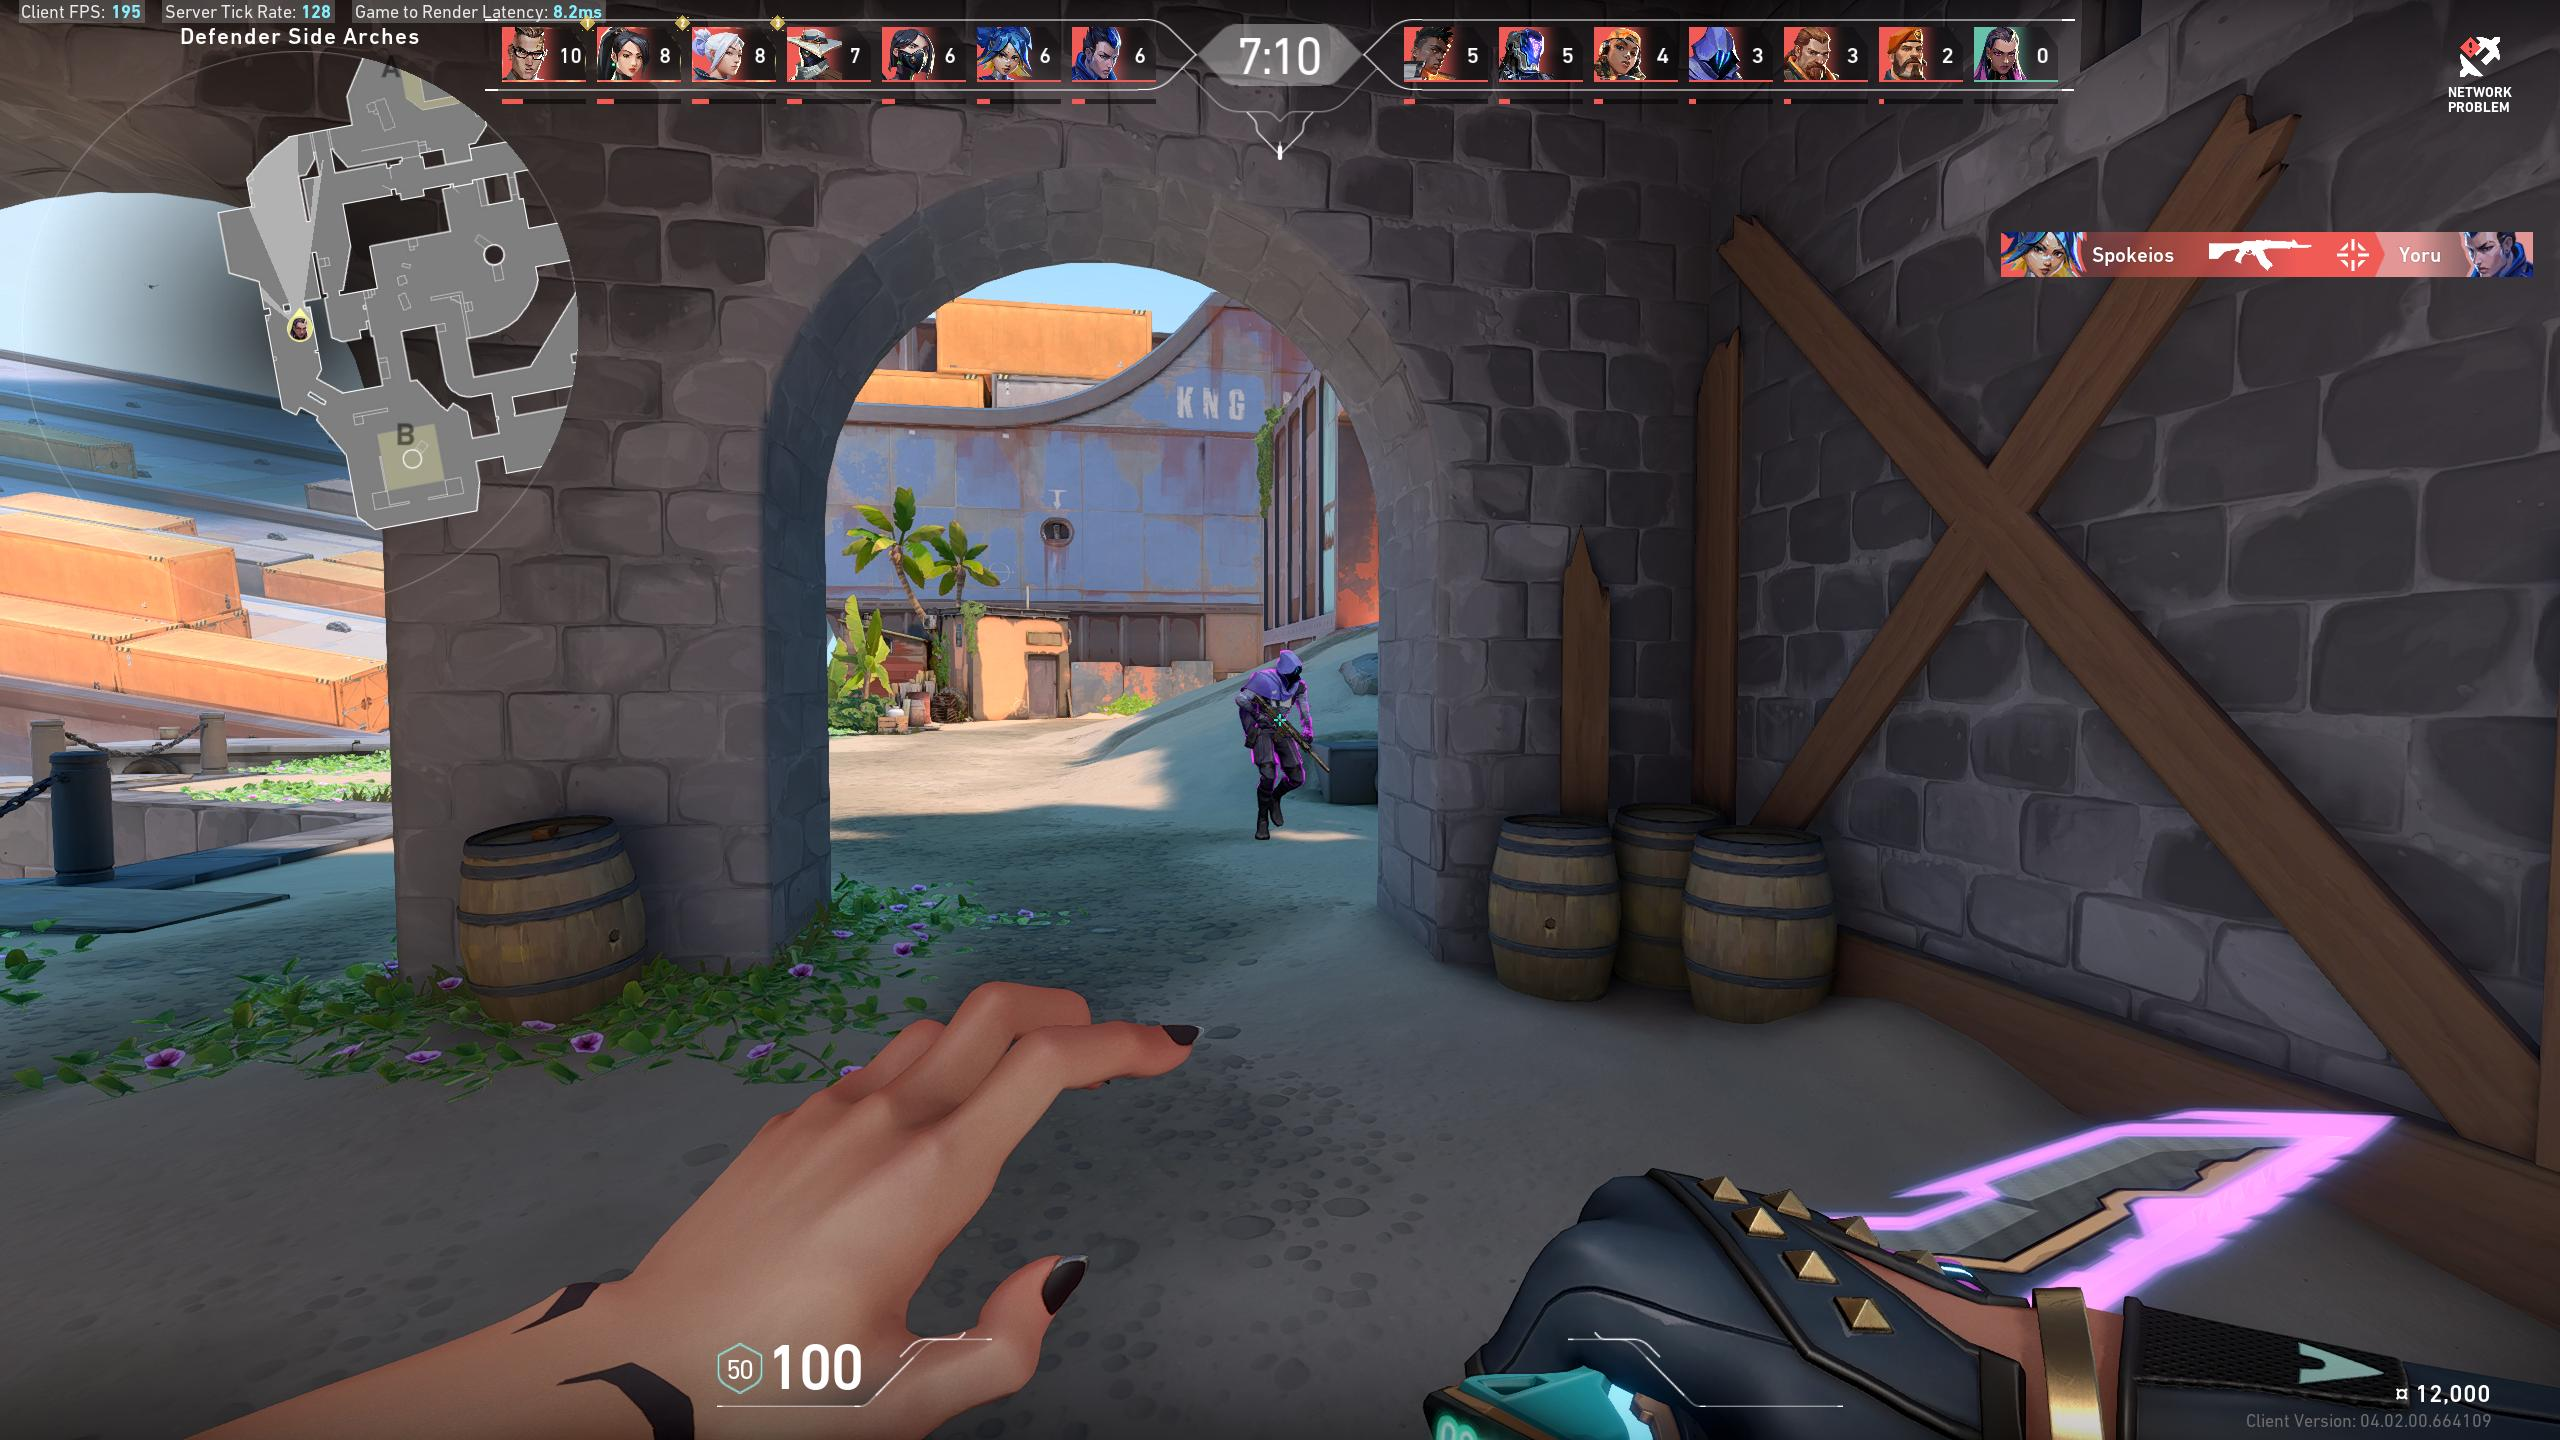enemyBody: (1255, 677, 1278, 731)
enemyHead: (1282, 658, 1299, 680)
